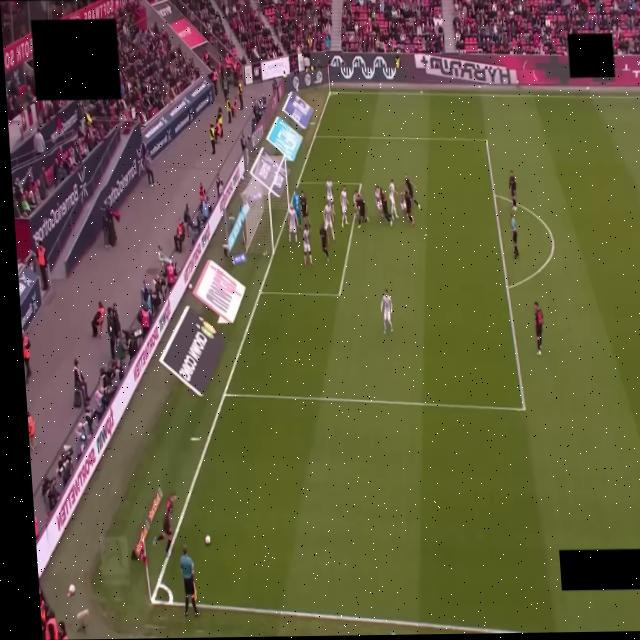ball: (205, 535, 210, 545)
player: (153, 495, 175, 556), (404, 174, 419, 209), (533, 302, 543, 354), (379, 189, 392, 226), (381, 290, 392, 333), (354, 193, 367, 227), (323, 202, 334, 242), (286, 205, 297, 244), (302, 227, 313, 266), (339, 186, 349, 228), (299, 191, 310, 229), (291, 189, 302, 226), (388, 178, 397, 217), (319, 223, 328, 261), (508, 171, 516, 211), (404, 191, 413, 225), (325, 177, 333, 205), (399, 191, 407, 216), (374, 187, 381, 214)
referee: (510, 214, 518, 258)
